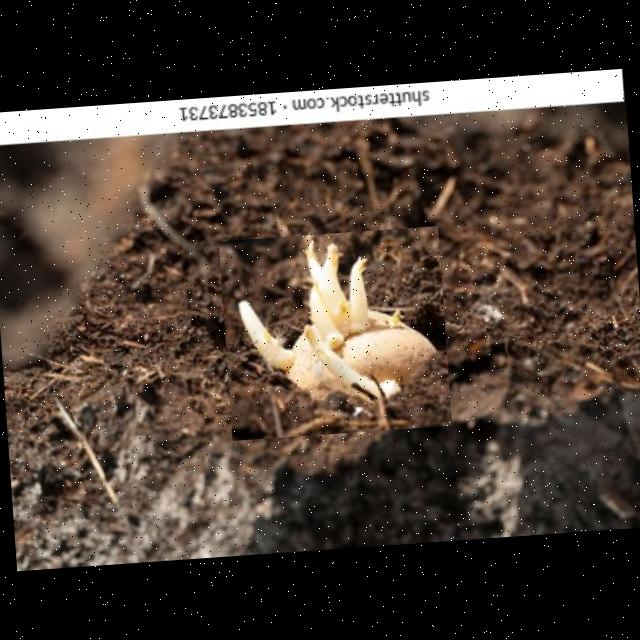Sprouted potato: (218, 225, 452, 440)
